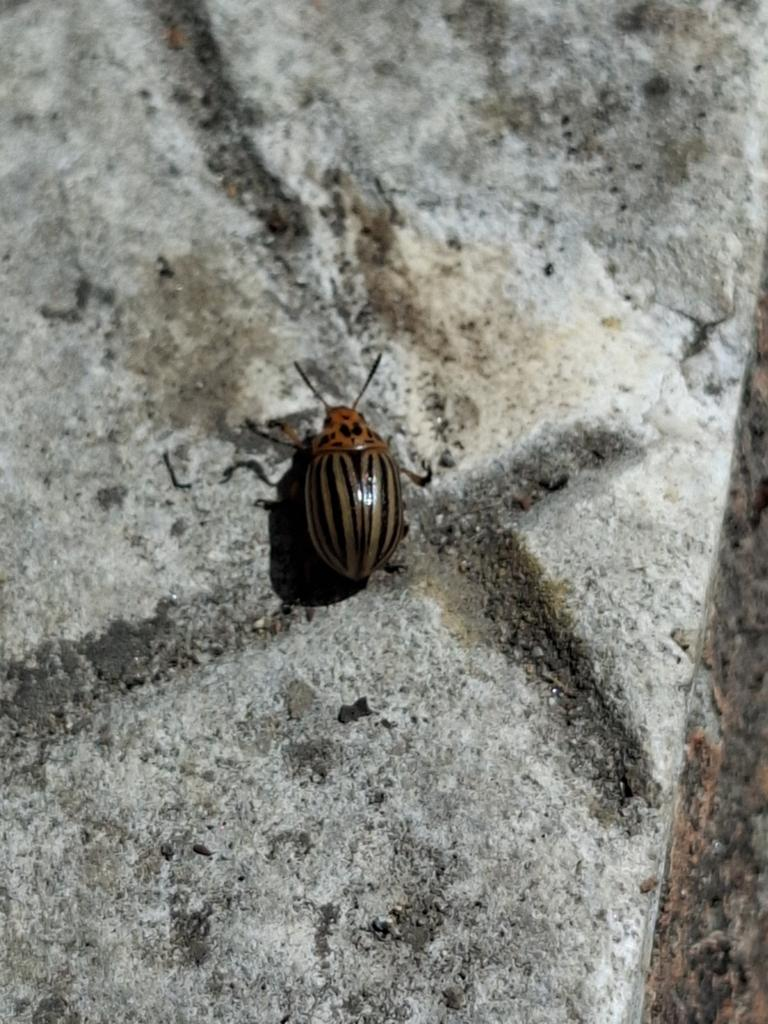potato_beetle: (223, 326, 471, 613)
